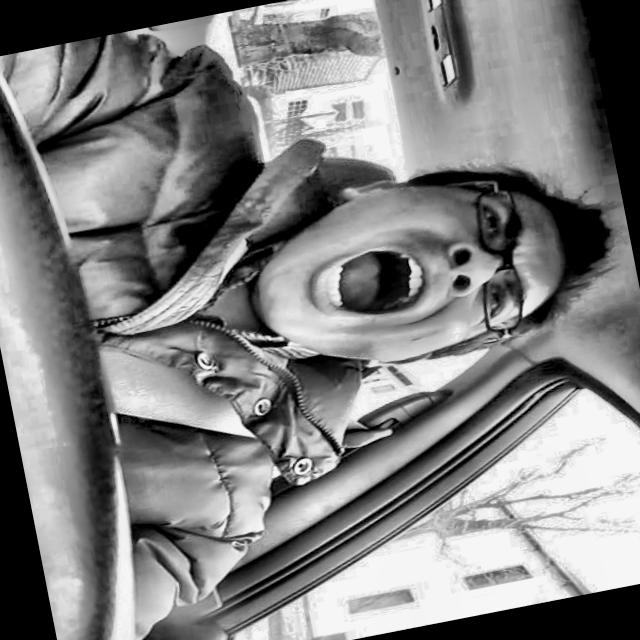open_eyes: (468, 192, 514, 247), (475, 278, 519, 328)
open_mouth: (284, 232, 442, 331)
